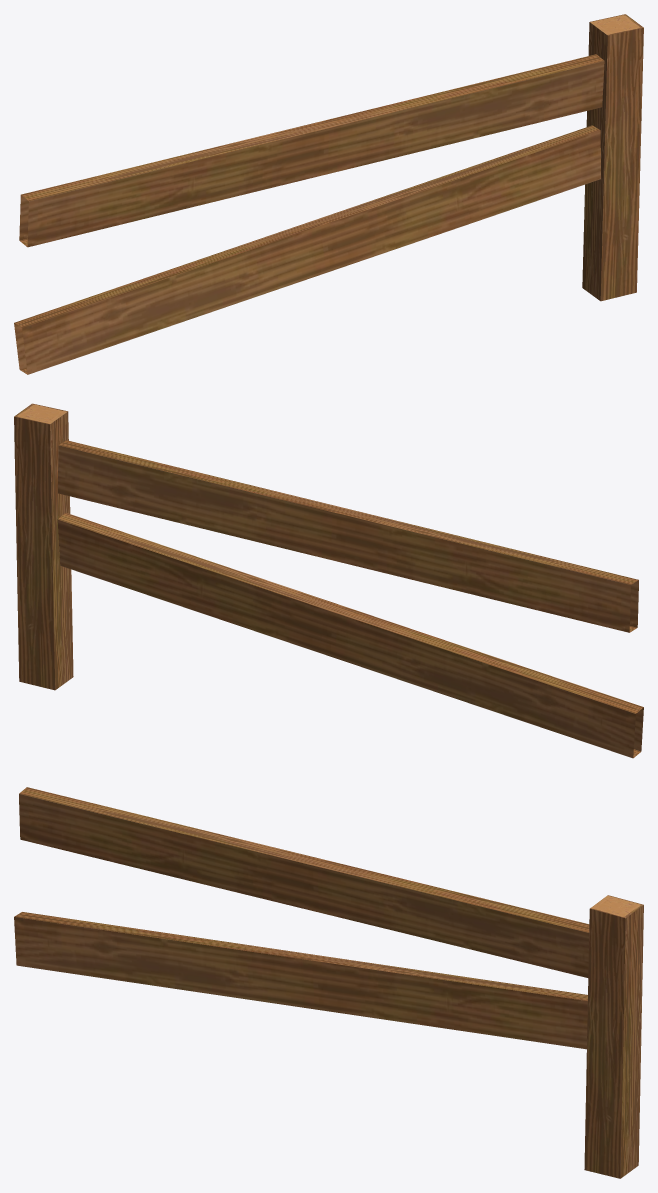
Rendered from fence_ext.glb.
3 renders of one model, top to bottom at view 1: azimuth 30°, elevation 25°; view 2: azimuth 150°, elevation 25°; view 3: azimuth 330°, elevation 25°, orthographic.
Parts seen in each view (by area): view 1: Prop_WoodenFence_Extension1; view 2: Prop_WoodenFence_Extension1; view 3: Prop_WoodenFence_Extension1.
Part boxes in pixels (x1,y1,x2,y2): Prop_WoodenFence_Extension1: [14, 14, 643, 374]; Prop_WoodenFence_Extension1: [14, 403, 643, 758]; Prop_WoodenFence_Extension1: [14, 787, 643, 1178].
Size of the model in its own units: 2.05 by 0.8381 by 0.1104.
Materials: 1 (1 with a texture image).
